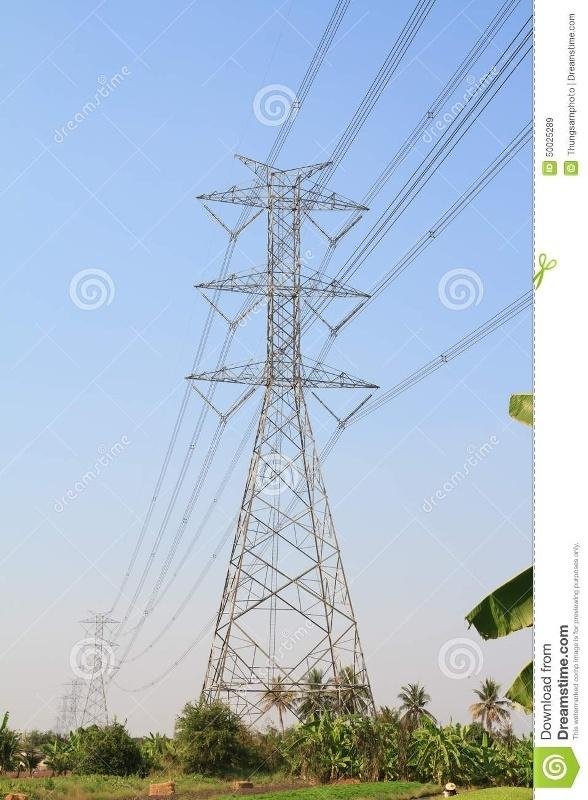power_tower: (188, 137, 391, 754)
